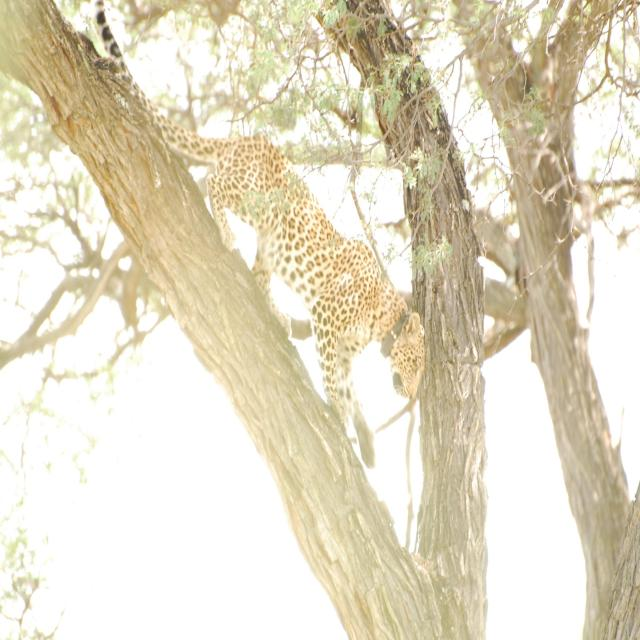Leopard: (110, 50, 464, 488)
